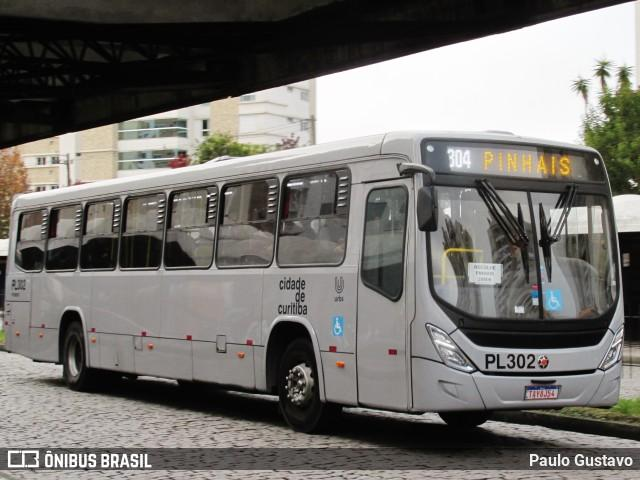PINHAIS: (479, 147, 575, 178)
